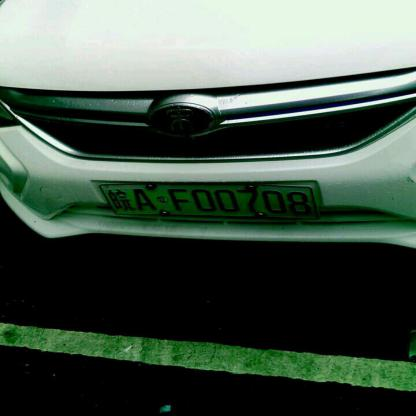lp: (100, 184, 318, 217)
